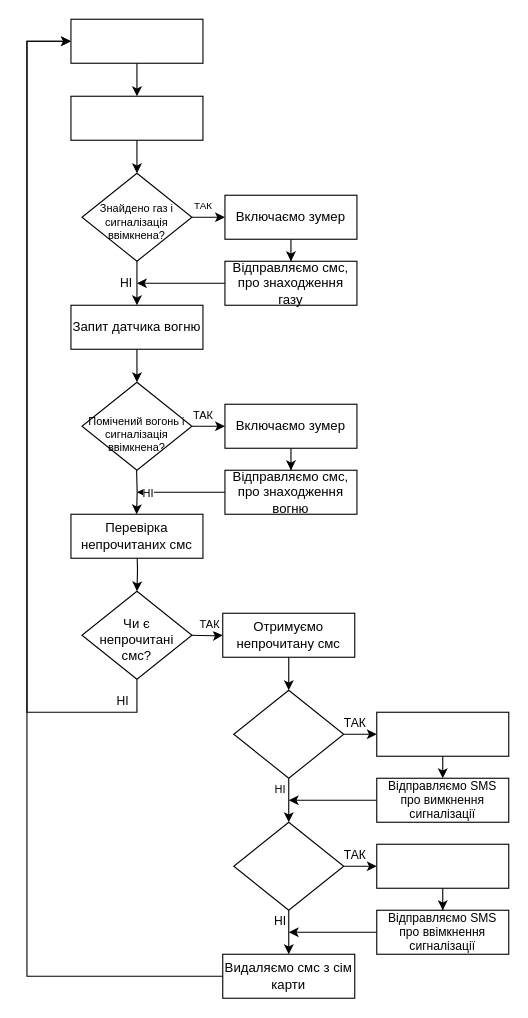
The diagram is 528 pixels wide and 1018 high, and some of its shapes have lost their labels. Each missing label, with the centre of its shape:
"Запит датчика газу" goes at (x=136, y=117).
"Знімаємо з охорони" goes at (x=442, y=733).
"Початок" goes at (x=136, y=40).
"Прийшла команда зняти з охорони" goes at (x=288, y=733).
"Прийшла команда поставити на охорону" goes at (x=288, y=865).
"Ставимо на охорону" goes at (x=442, y=865).
